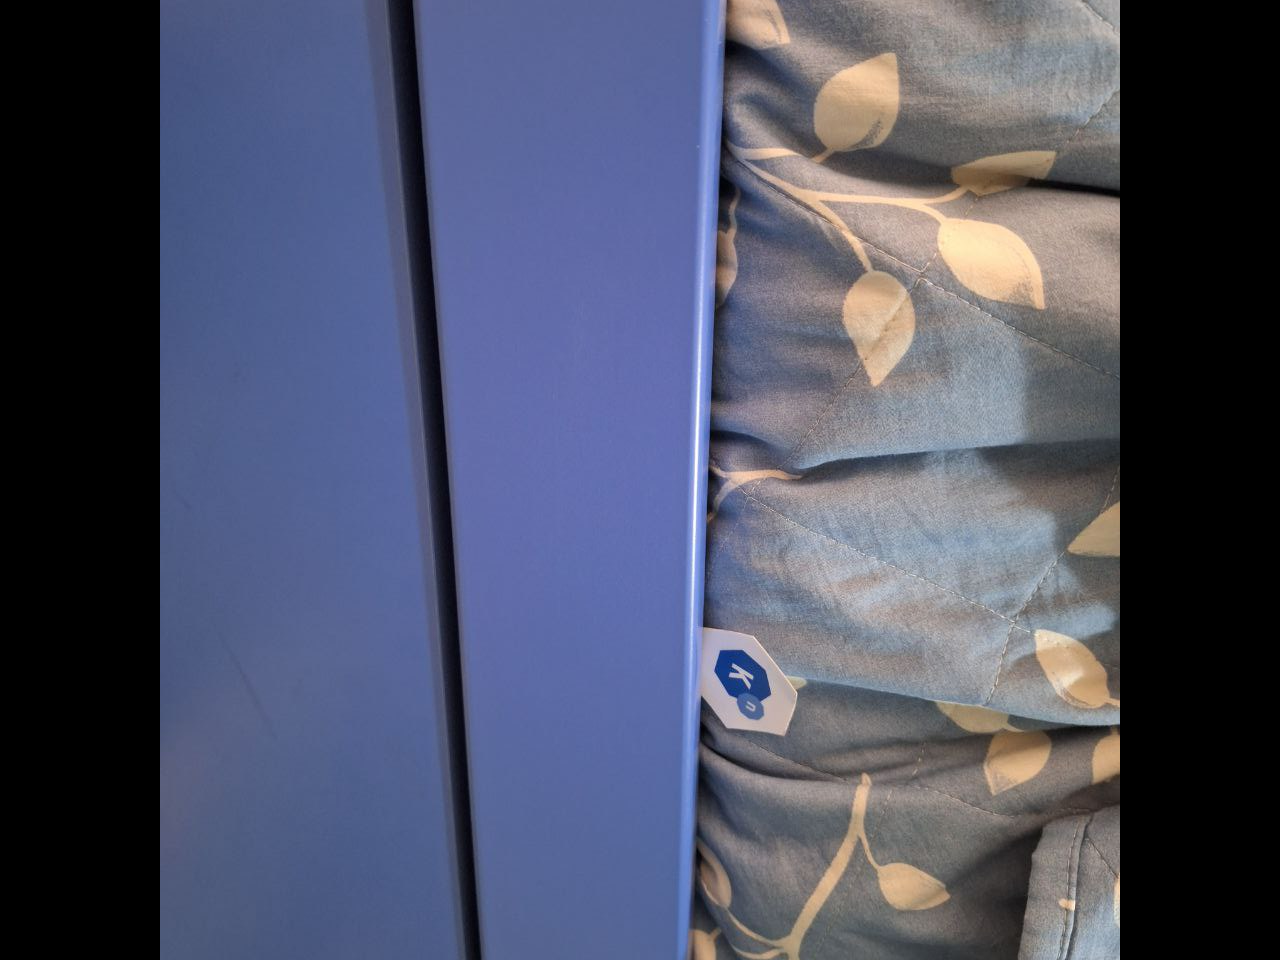knative: (714, 650, 778, 722)
